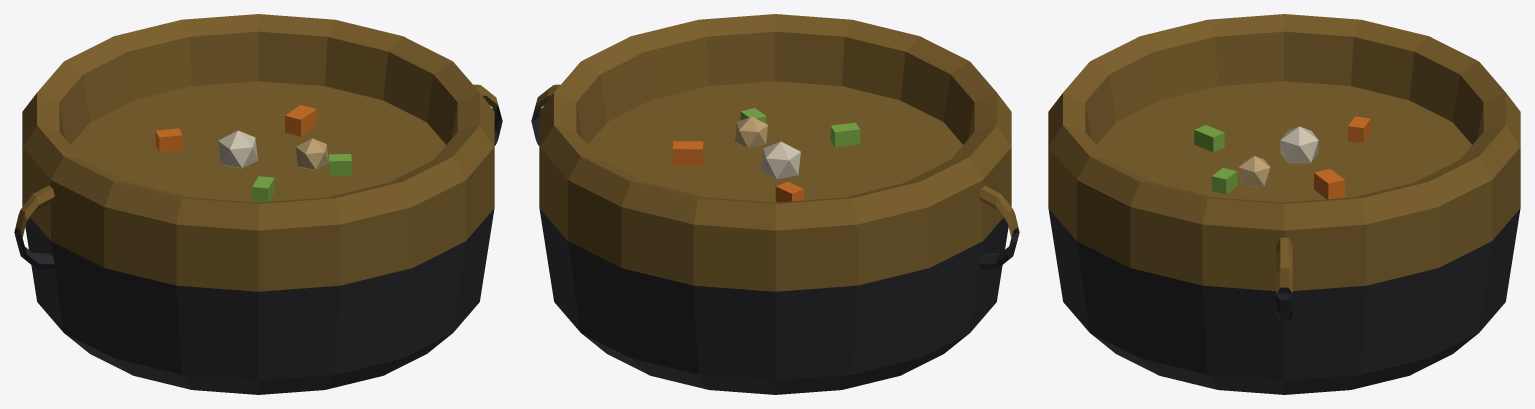
File: Garden_Stew.glb
The picture shows the model from 3 angles, left to right: view 1: azimuth 30°, elevation 25°; view 2: azimuth 150°, elevation 25°; view 3: azimuth 270°, elevation 25°; orthographic projection.
Visible parts, largest first — view 1: _ITEM_GardenStew; view 2: _ITEM_GardenStew; view 3: _ITEM_GardenStew.
Part boxes in pixels (box(x1,y1,x2,y2)): _ITEM_GardenStew: box(14, 14, 502, 394); _ITEM_GardenStew: box(531, 14, 1019, 394); _ITEM_GardenStew: box(1048, 14, 1520, 394).
Size of the model in its own units: 0.74 by 0.3 by 0.6303.
